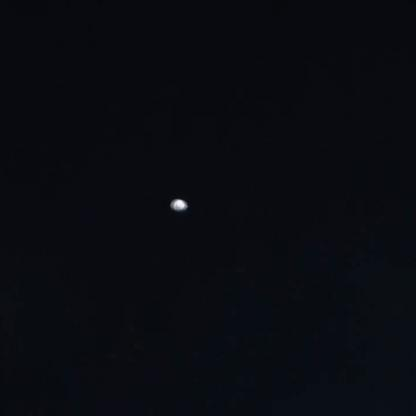ball: (164, 189, 192, 217)
